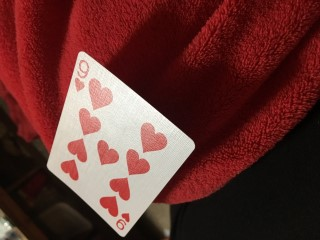NineOfHearts: (46, 51, 195, 237)
